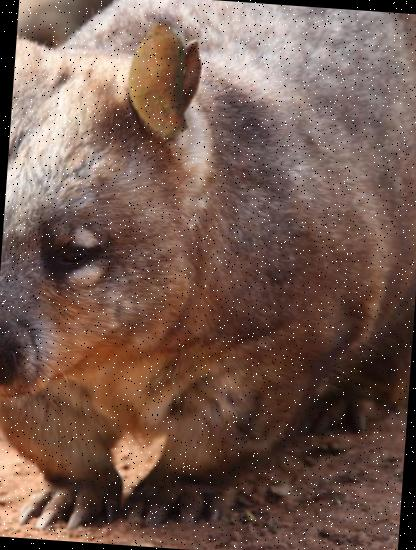Potato: (93, 16, 222, 144)
